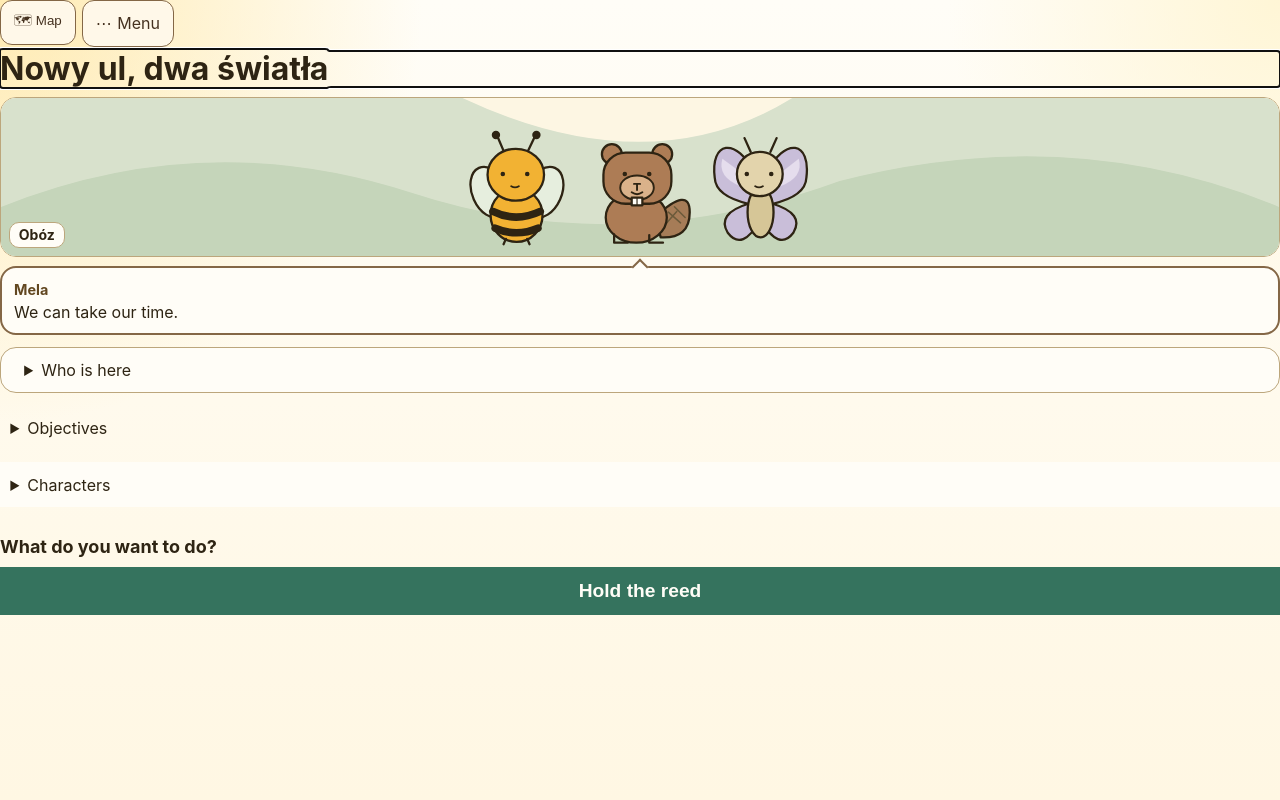
Test: shows saved Hive completion and animates only its first local map opening (true)
Check: the text "Completed" is not shown
Click the button "Hold the reed": click(640, 591) [0, 567, 1279, 616]
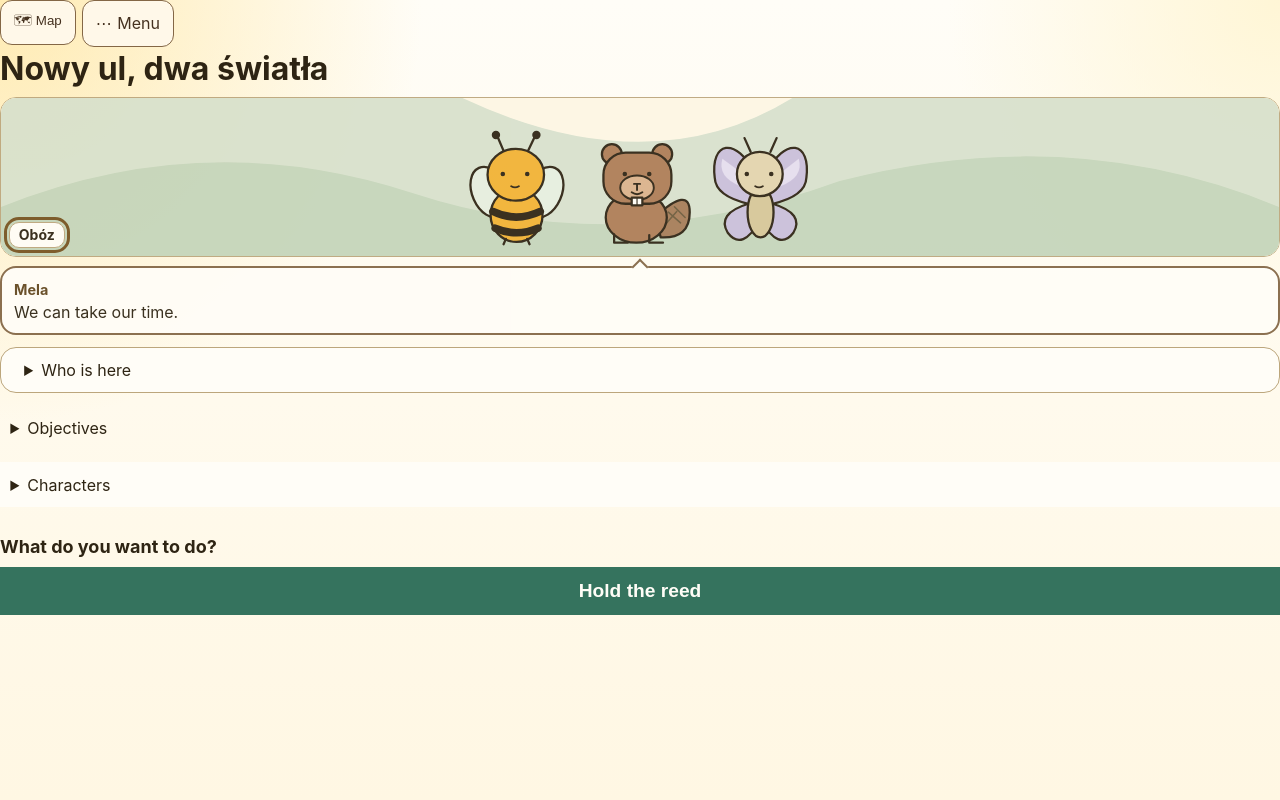
Click the button with class "game-map-button": click(38, 22) [0, 0, 76, 45]
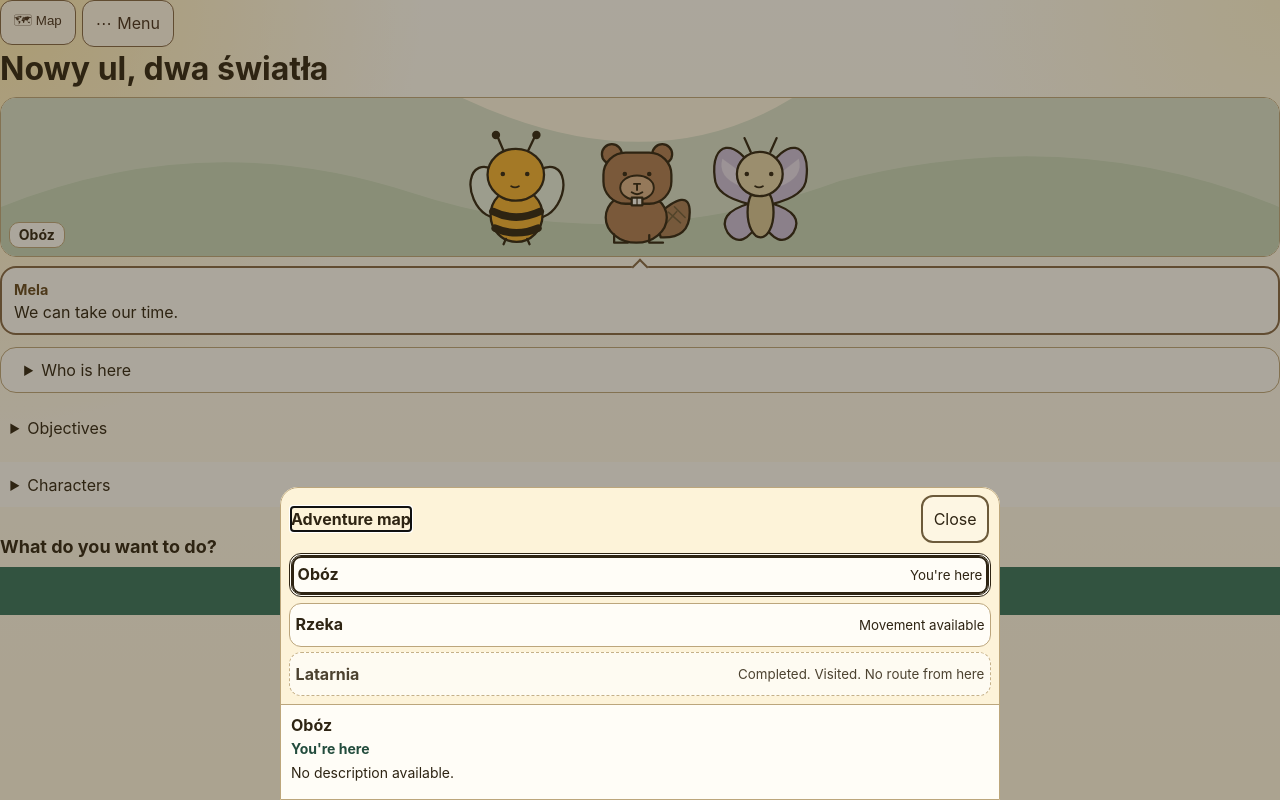
Check: the button "Latarnia Completed. Visited. No route from here" is shown, box [289, 652, 991, 696]
Click the button "Close": click(955, 519) [921, 495, 989, 544]
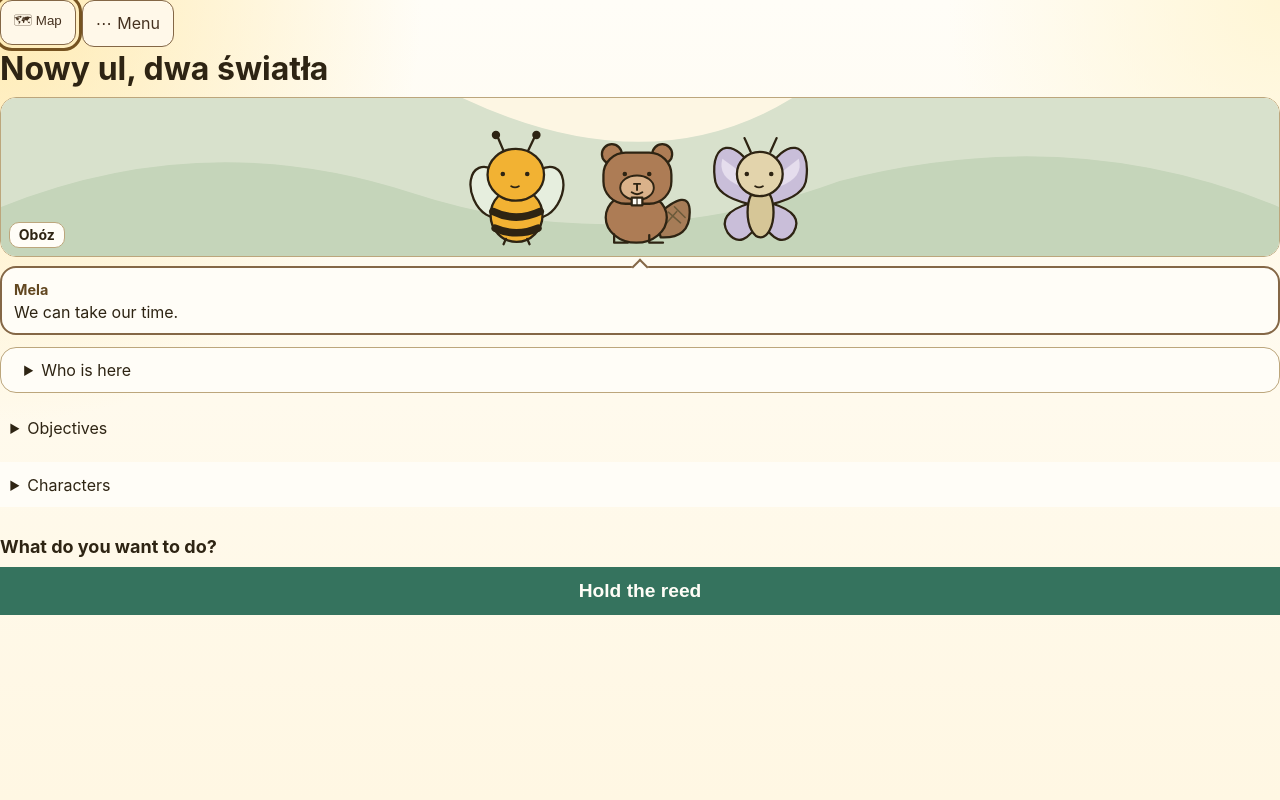
Click the button with class "game-map-button": click(38, 22) [0, 0, 76, 45]
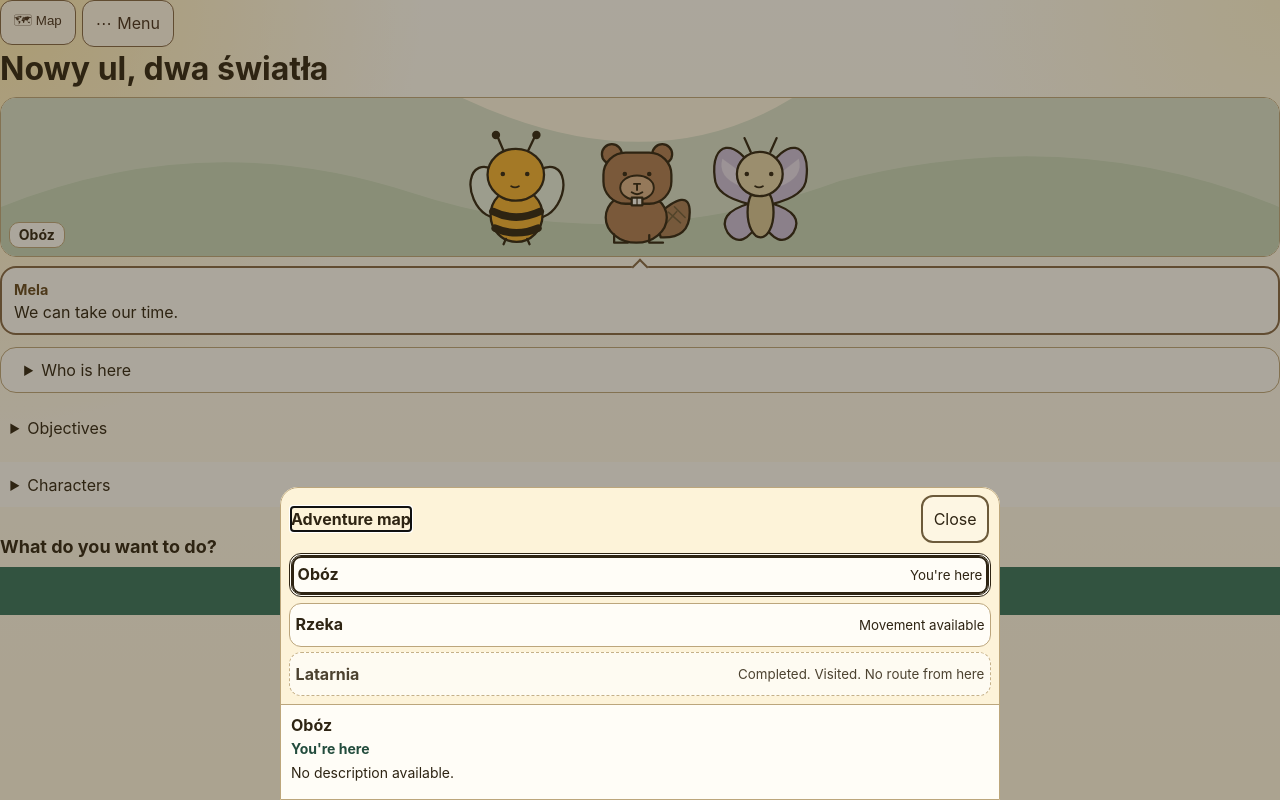
Check: the button "Latarnia Completed. Visited. No route from here" is shown, box [289, 652, 991, 696]
